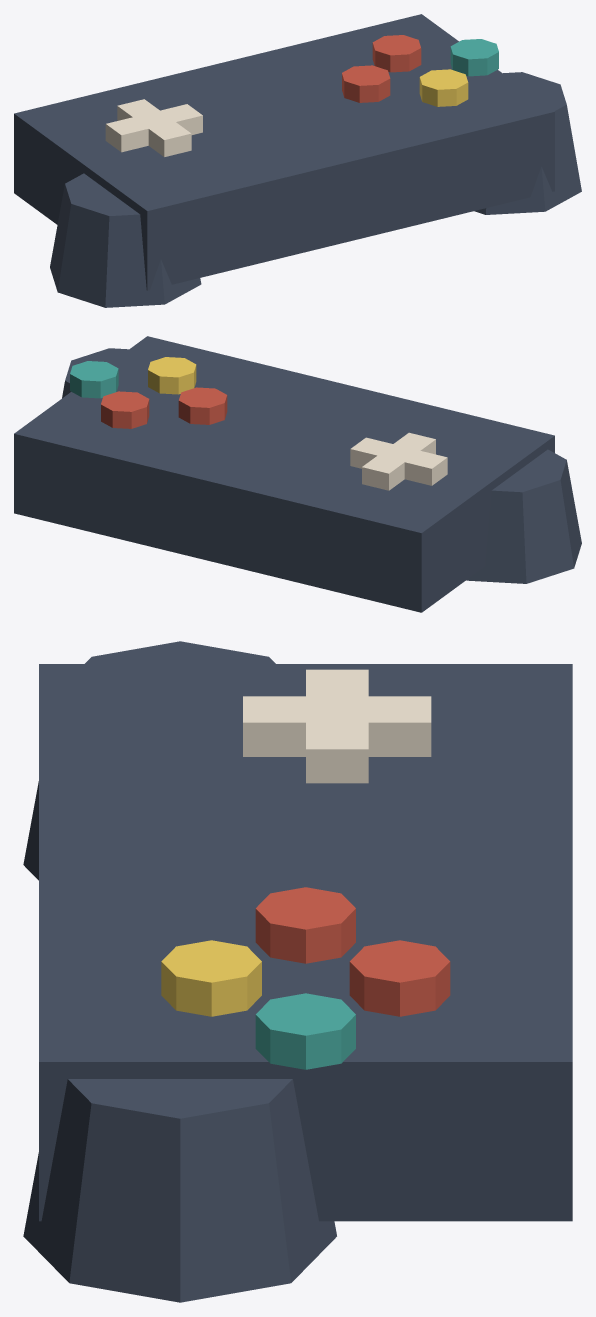
The model's file is controller.glb.
The picture shows the model from 3 angles, top to bottom: view 1: azimuth 30°, elevation 25°; view 2: azimuth 150°, elevation 25°; view 3: azimuth 270°, elevation 25°; orthographic projection. The views are drawn at different scales.
Parts seen in each view (by area): view 1: prop_controller; view 2: prop_controller; view 3: prop_controller.
Boxes of the visible parts, left/top/right/bottom form: prop_controller: left=14, top=14, right=581, bottom=307; prop_controller: left=14, top=336, right=581, bottom=612; prop_controller: left=23, top=641, right=572, bottom=1302.
Size of the model in its own units: 0.19 by 0.039 by 0.0875.
